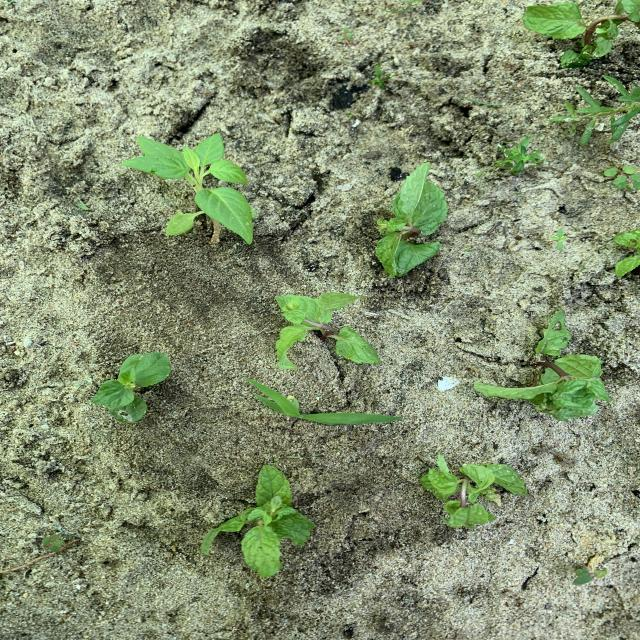crop: (474, 312, 609, 419), (201, 465, 313, 575), (376, 163, 447, 275), (420, 453, 526, 527), (276, 293, 379, 366), (524, 1, 639, 66), (93, 353, 170, 422), (615, 230, 639, 275)
weed: (121, 133, 253, 244), (246, 379, 401, 424), (547, 75, 640, 146), (93, 353, 171, 422), (496, 136, 542, 173), (574, 554, 607, 583), (605, 163, 639, 190), (40, 531, 74, 551), (370, 63, 390, 87), (551, 227, 568, 247), (337, 27, 355, 42)
